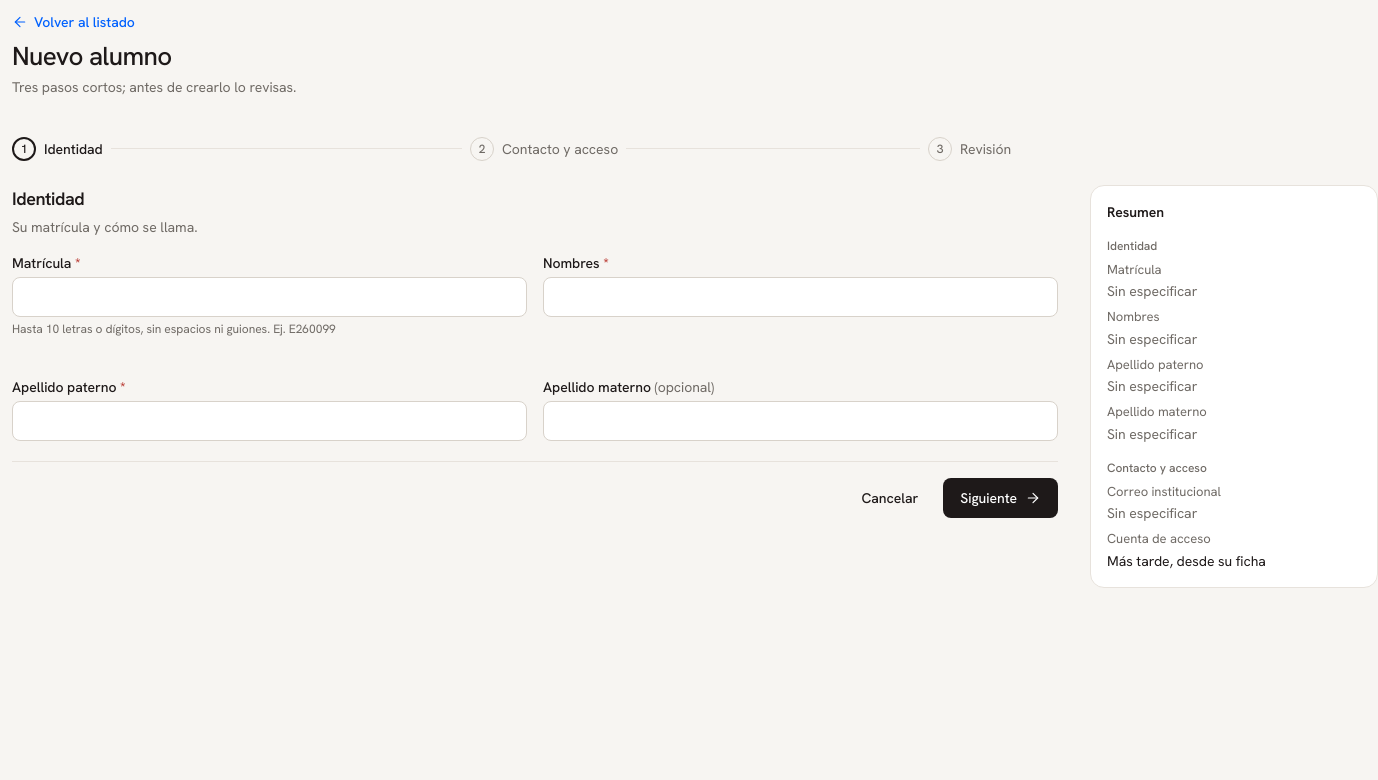
Scenario: NuevoAlumno: errores del servidor y duplicados › avisa antes de la revisión que la matrícula ya existe y enlaza a su ficha
Type "e260099" into the field labelled "Matrícula *" at x=270, y=296, box [12,276,527,316]
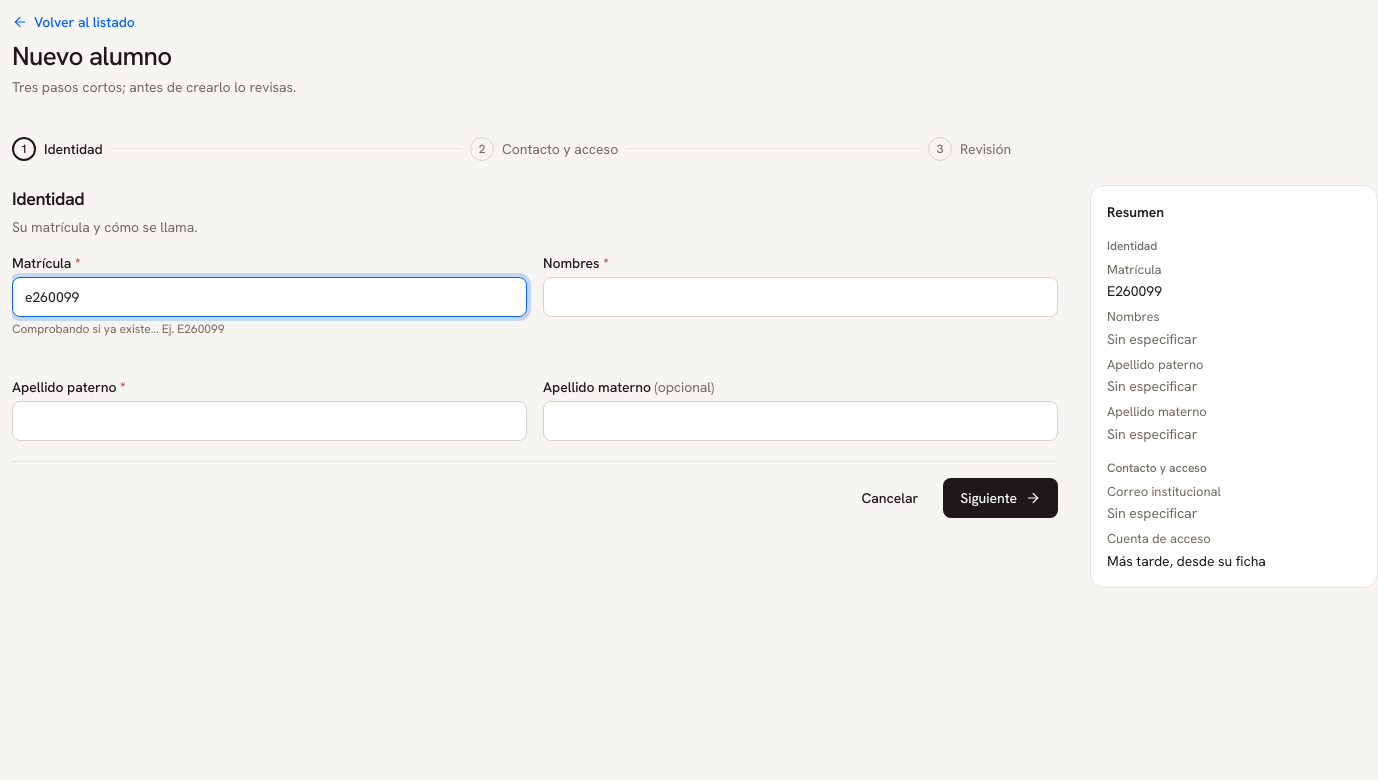
Press Tab
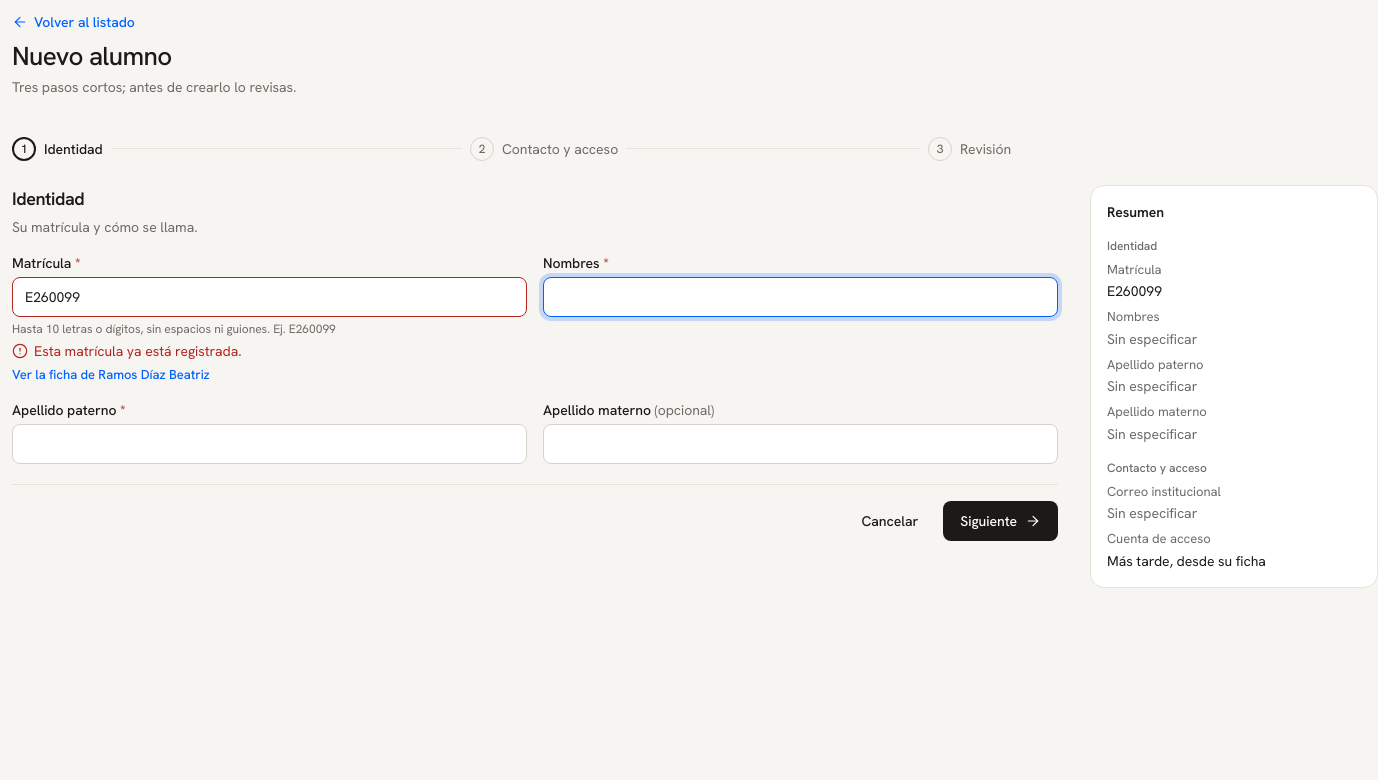
Type "Carla" into the field labelled "Nombres *" at x=800, y=296, box [543,276,1058,316]
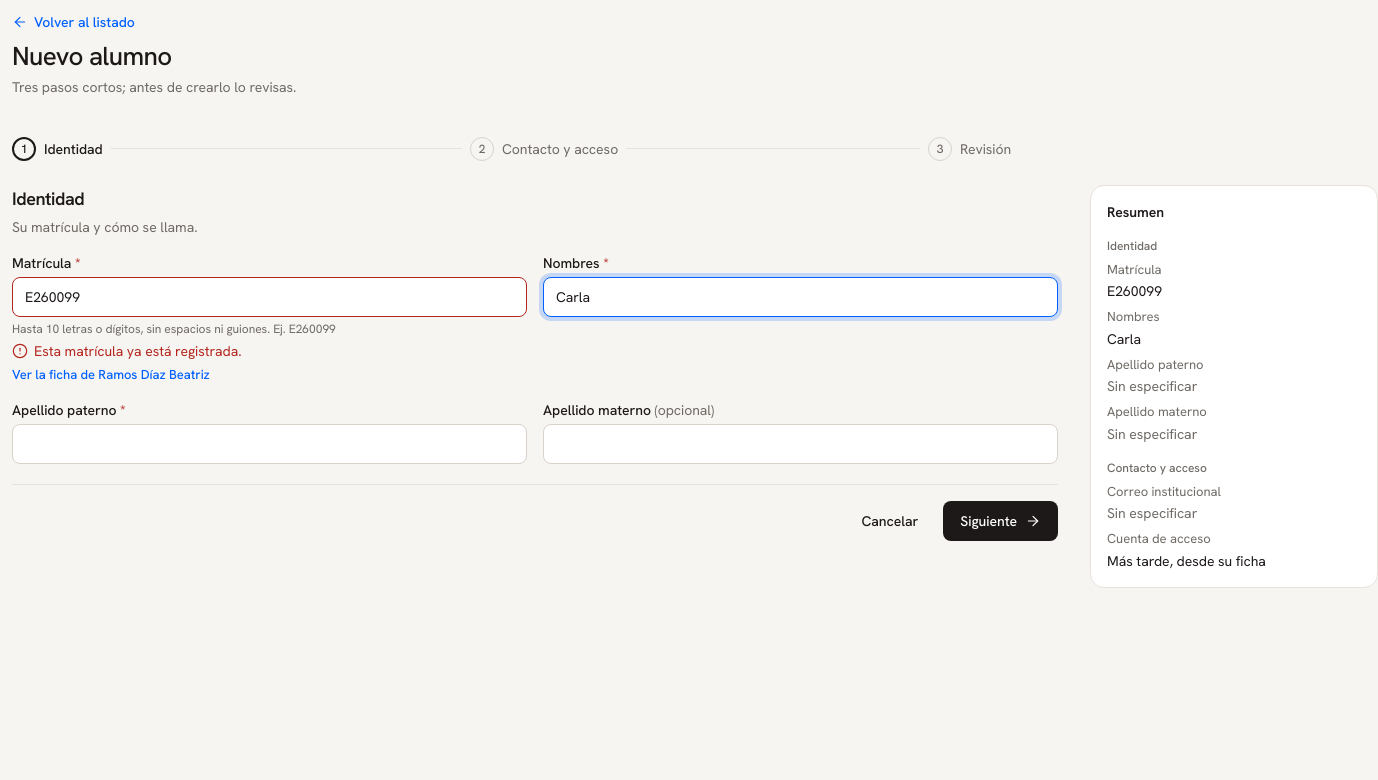
Type "Soto" into the field labelled "Apellido paterno *" at x=270, y=444, box [12,424,527,464]
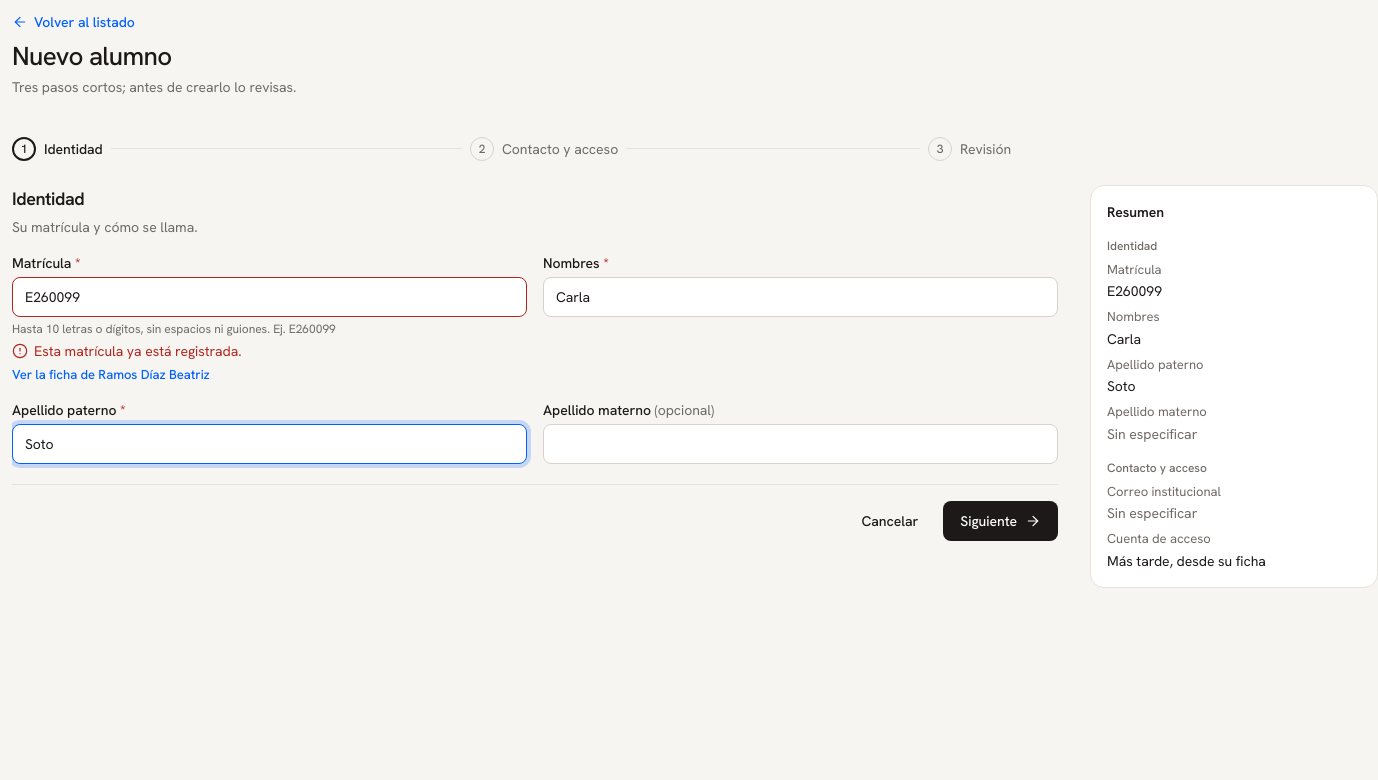
Click the button "Siguiente" at x=1001, y=521, box [943,501,1058,541]
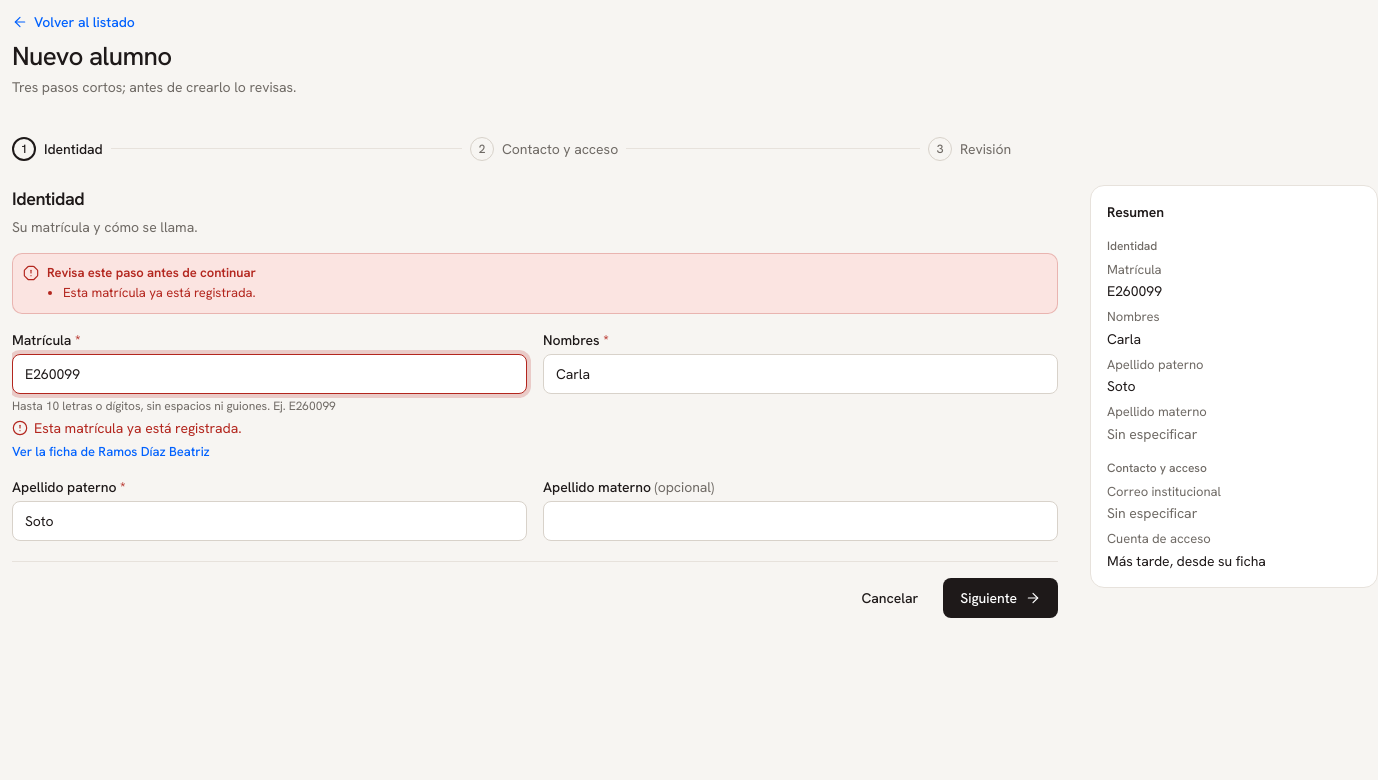
Expected: the heading "Identidad" is shown, [12,186,84,210]
Now the list item "Esta matrícula ya está registrada." is shown, box [63,284,256,301]
